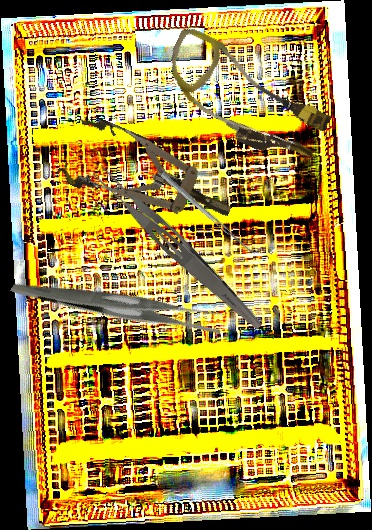Cannula: (149, 24, 341, 173)
Dressing Forceps: (10, 220, 228, 387), (87, 161, 271, 334)
Spatula Surgical: (160, 169, 261, 258)
Speculum: (54, 110, 244, 247)
